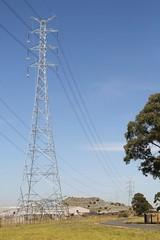power_tower: (13, 10, 67, 224)
